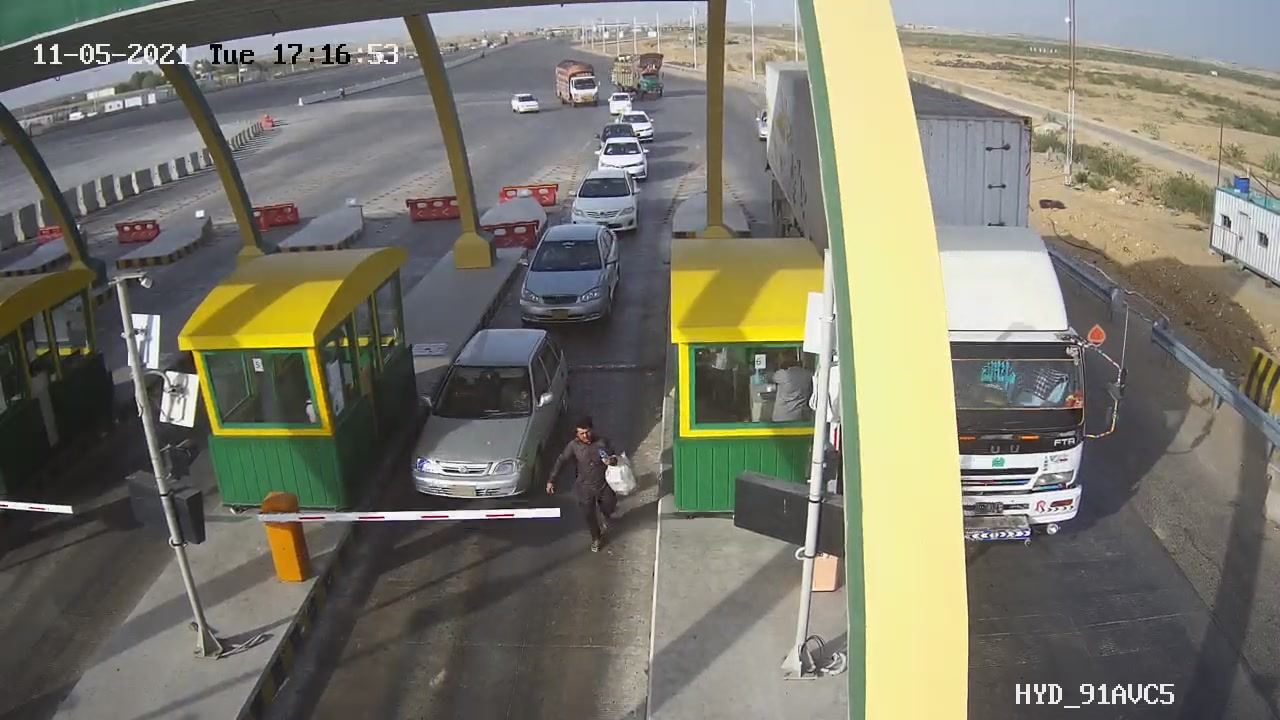F1: (399, 317, 582, 514), (504, 214, 633, 333)
